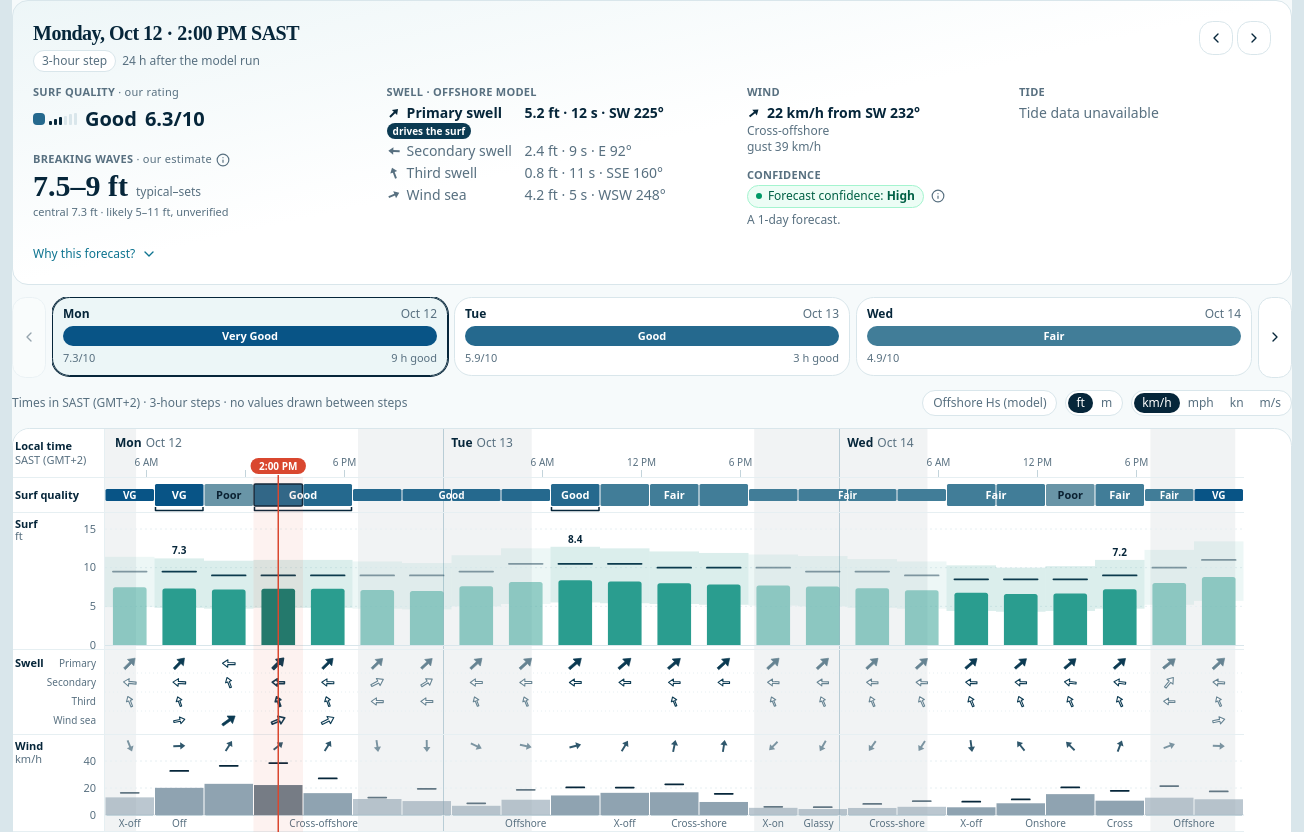
ft / m toggle for everyone (spec 24) › switches every height and is remembered in the browser
This screenshot has width=1304, height=832.
Expected: the element with test id "summary-breaking" shows "ft", [33, 169, 128, 202]
Click the button "m" at (1107, 402), box [1093, 392, 1120, 412]
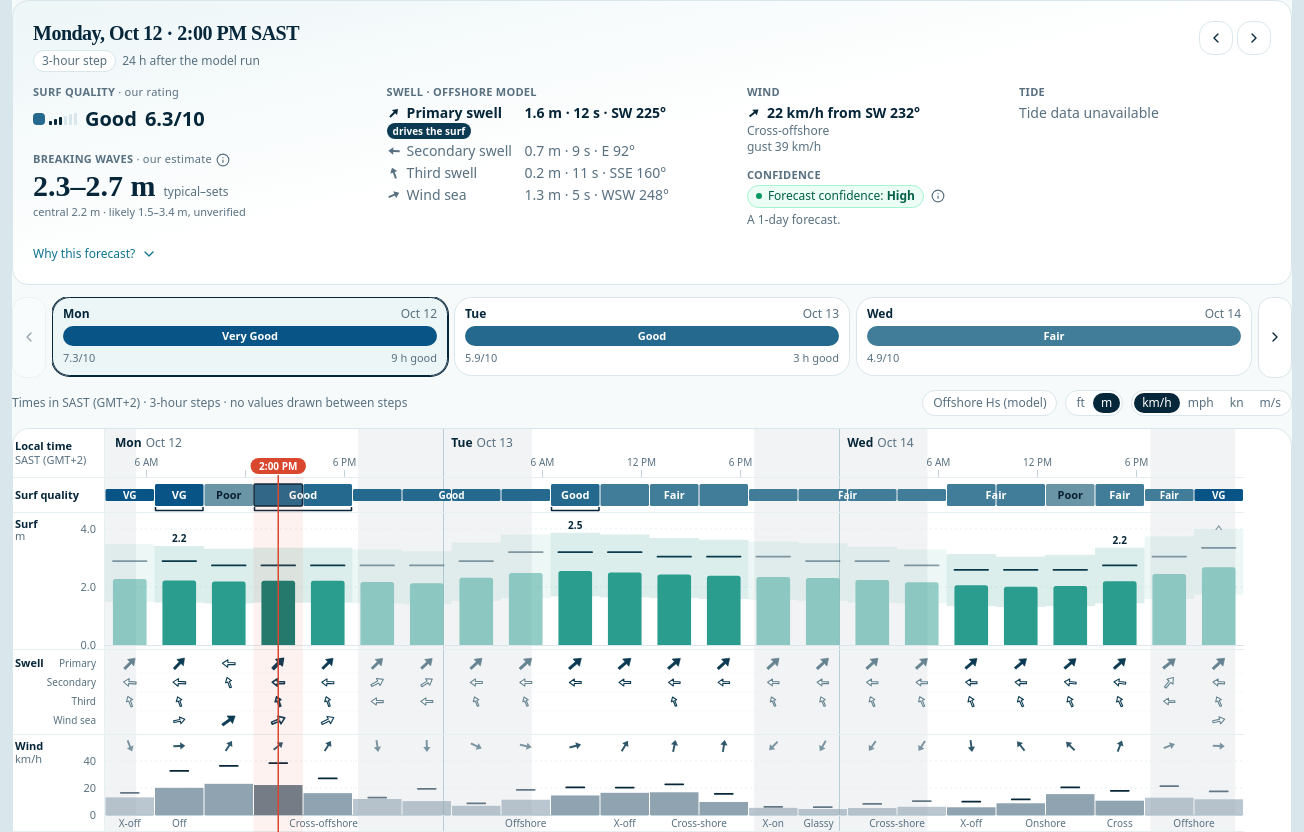
Expected: the element with test id "summary-breaking" shows "m", [33, 169, 156, 202]
